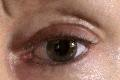eye: (46, 38, 77, 62)
